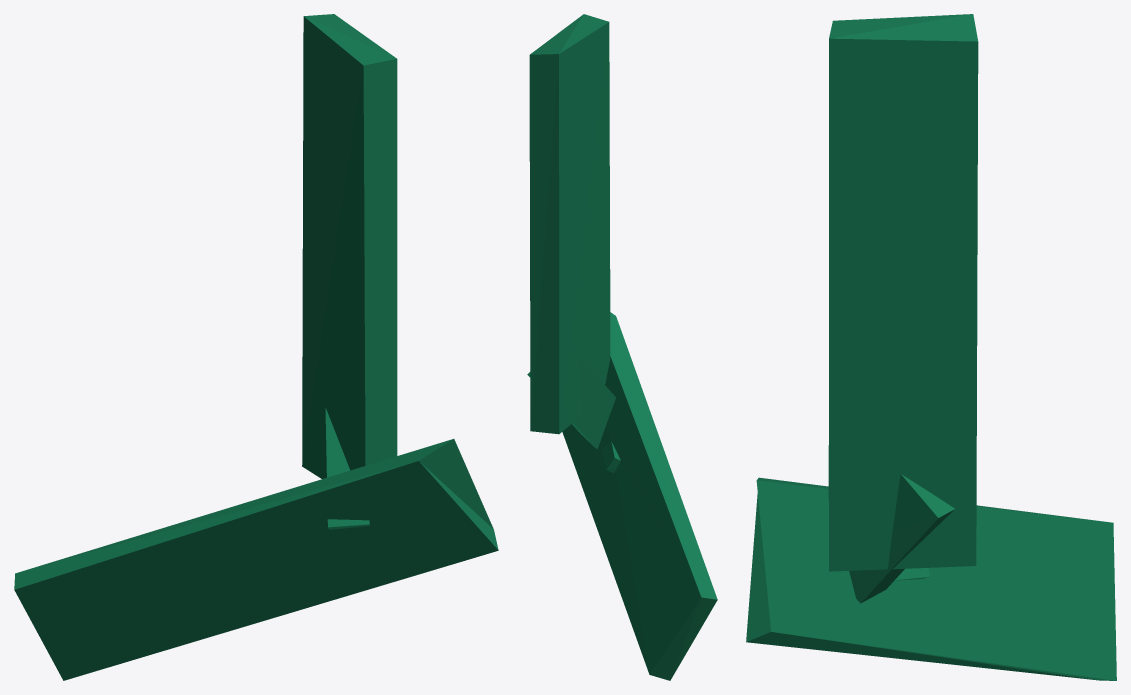
3 renders of one model, left to right at view 1: azimuth 30°, elevation 25°; view 2: azimuth 150°, elevation 25°; view 3: azimuth 270°, elevation 25°, orthographic. The views are drawn at different scales.
Visible parts, largest first — view 1: 067_Cube.275; view 2: 067_Cube.275; view 3: 067_Cube.275.
Part boxes in pixels (<box>): 067_Cube.275: <box>14,14,498,680</box>; 067_Cube.275: <box>527,14,717,680</box>; 067_Cube.275: <box>746,14,1116,680</box>.
Bounding box in the file's own units: 9.63 × 17.68 × 7.69.
